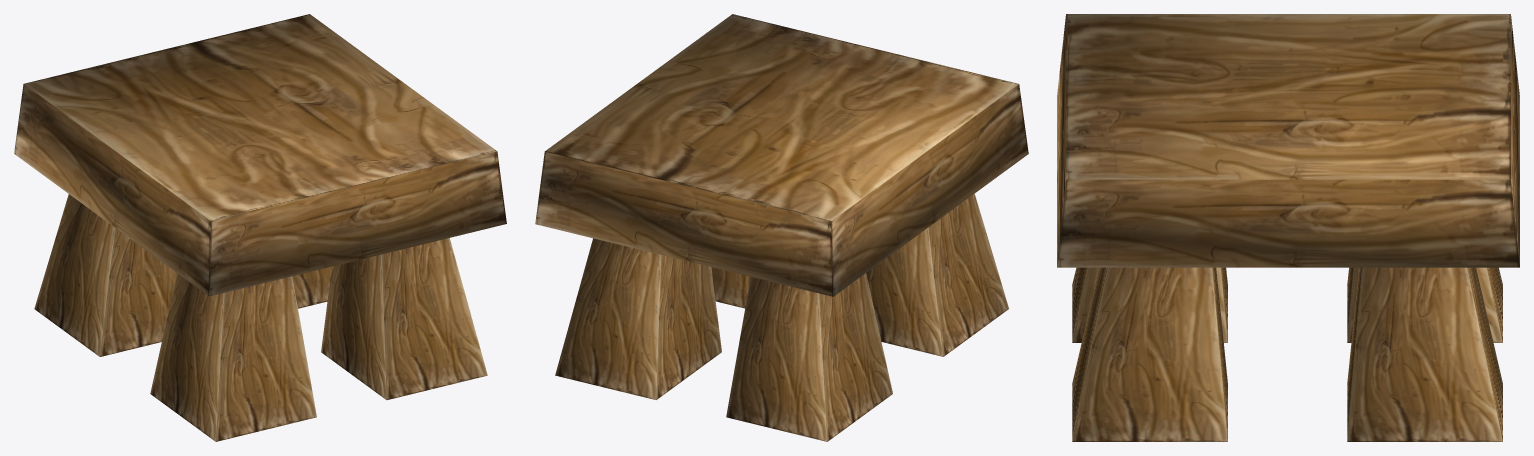
File: inntabletiny.obj
The picture shows the model from 3 angles, left to right: view 1: azimuth 30°, elevation 25°; view 2: azimuth 150°, elevation 25°; view 3: azimuth 270°, elevation 25°; orthographic projection. The views are drawn at different scales.
Parts seen in each view (by area): view 1: inntabletiny; view 2: inntabletiny; view 3: inntabletiny.
Part boxes in pixels (x1,y1,x2,y2): inntabletiny: [14, 14, 506, 441]; inntabletiny: [535, 14, 1028, 441]; inntabletiny: [1057, 14, 1519, 441].
Size of the model in its own units: 1.56 by 1.12 by 1.77.
Materials: 1 (1 with a texture image).
